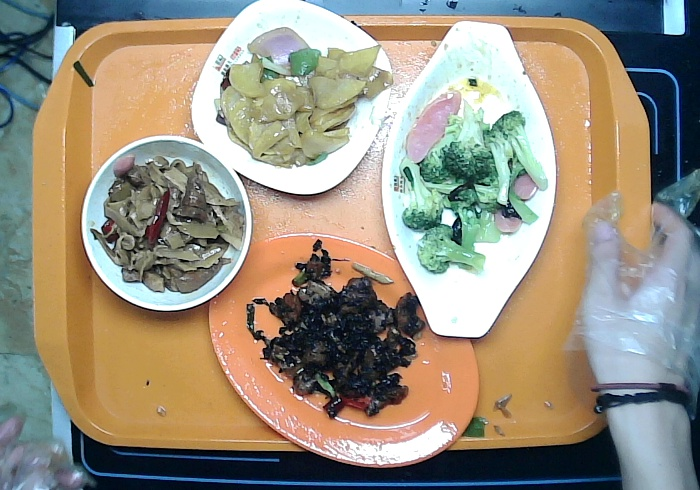NLDX-Bai_Se_Xiao_Fang_Die: (190, 1, 393, 196)
NLDX-Fan_Wan: (80, 135, 252, 312)
NLDX-Ju_Se_Pan: (209, 232, 480, 467)
NLDX-Yu_Pan: (382, 20, 558, 337)
